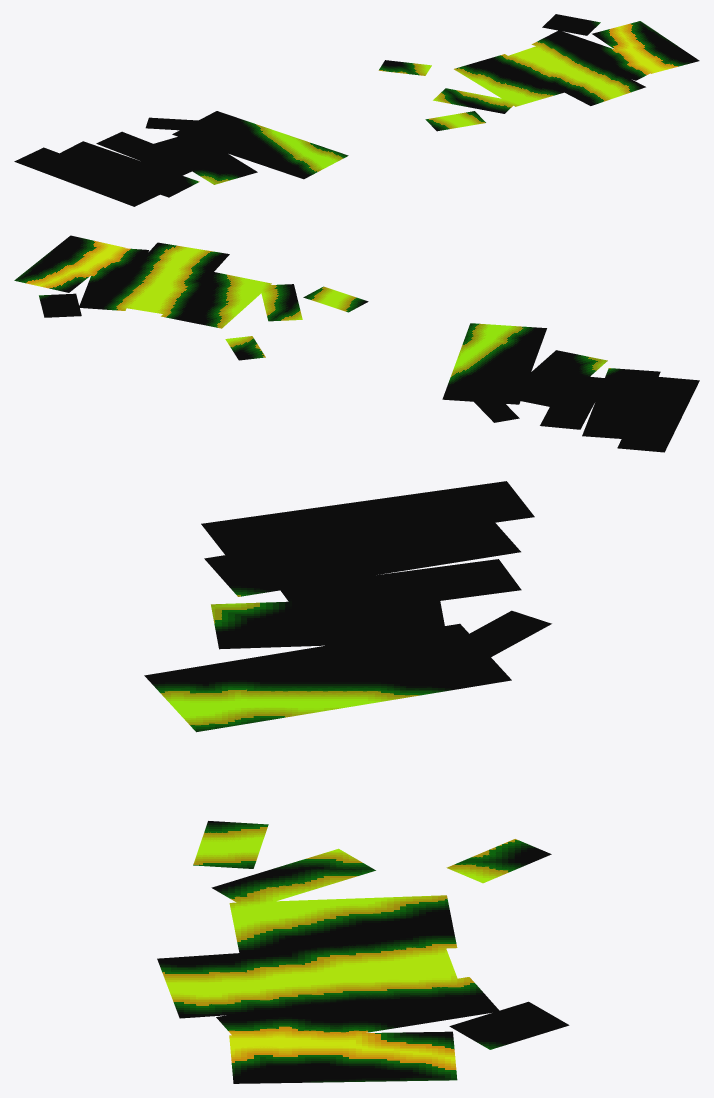
Rendered from people.glb.
The picture shows the model from 3 angles, top to bottom: view 1: azimuth 30°, elevation 25°; view 2: azimuth 150°, elevation 25°; view 3: azimuth 270°, elevation 25°; orthographic projection. The views are drawn at different scales.
Parts seen in each view (by area): view 1: PeopleStrips; view 2: PeopleStrips; view 3: PeopleStrips.
Part boxes in pixels (x1,y1,x2,y2): PeopleStrips: [14, 14, 699, 206]; PeopleStrips: [14, 235, 699, 452]; PeopleStrips: [144, 481, 569, 1083].
Bounding box in the file's own units: 0.9222 × 0 × 0.2752.
Materials: 1 (1 with a texture image).
